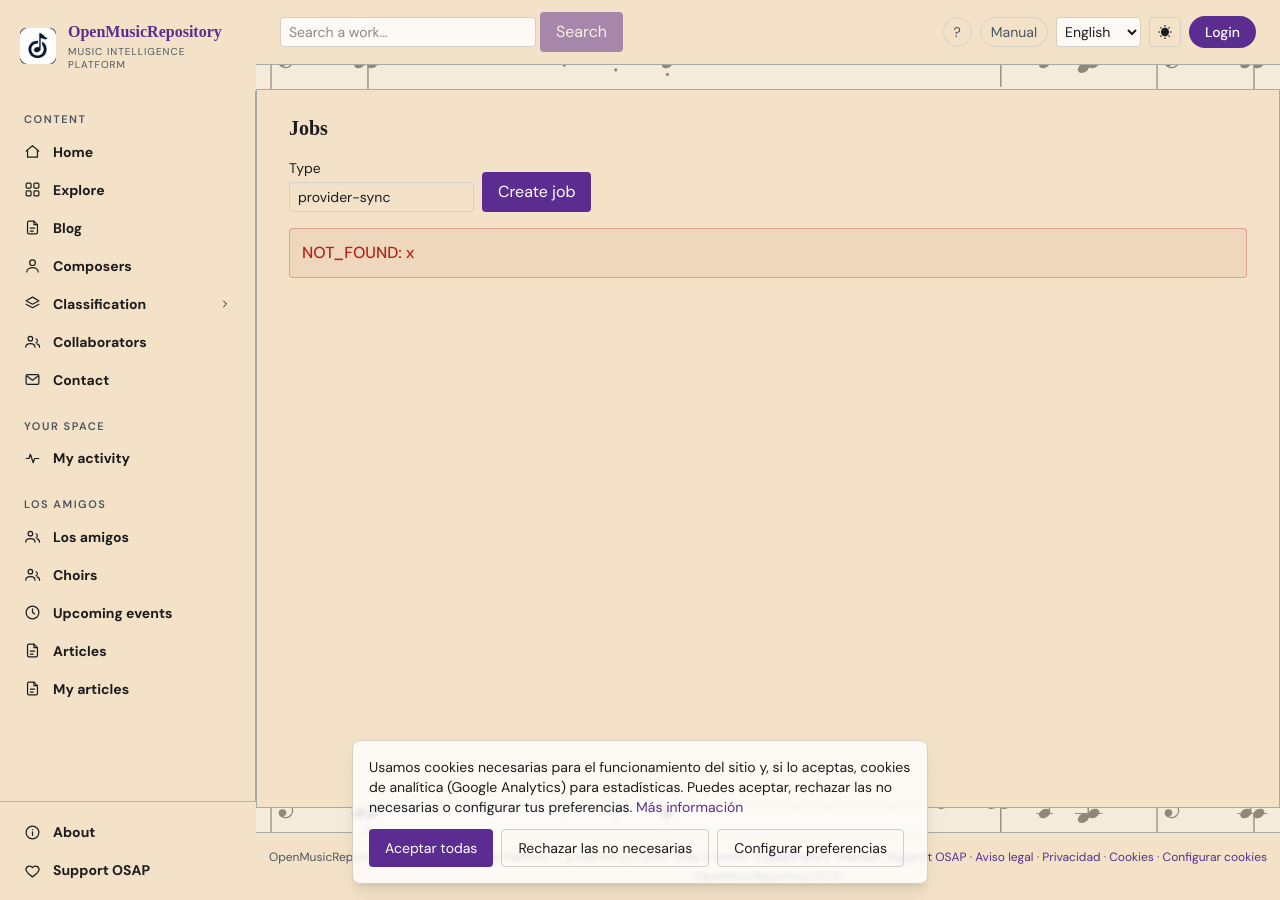
Scenario: Routing and navigation (V3.4) › agrupa las secciones de Clasificación en el sidebar
Click the button "Classification": (128, 304) [12,286,243,322]
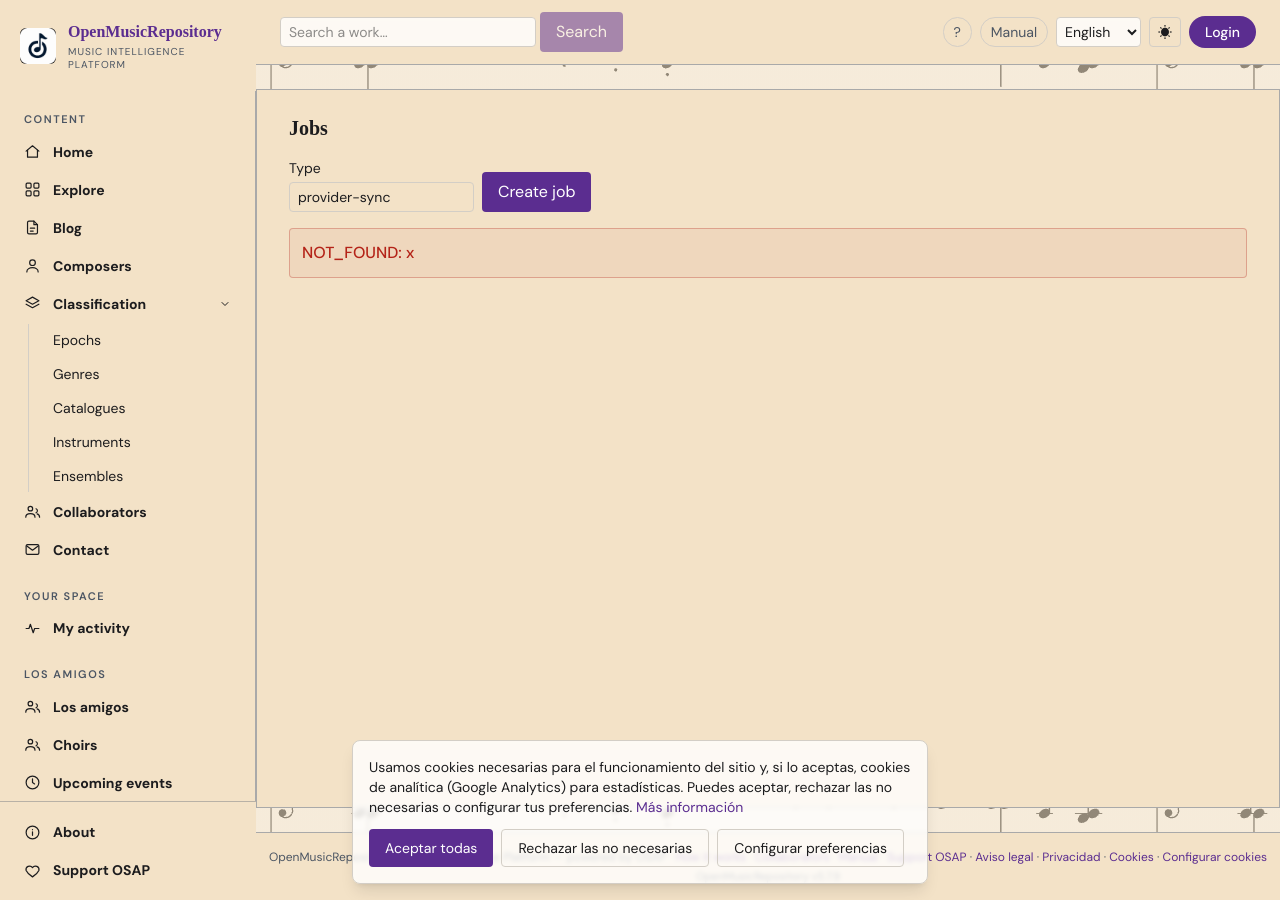
Expected: the link "Genres" is shown, [53,364,100,382]
Expected: the link "Catalogues" is shown, [53,398,126,416]
Expected: the link "Instruments" is shown, [53,432,131,450]
